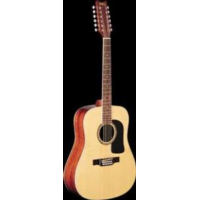guitar: (64, 1, 136, 200)
